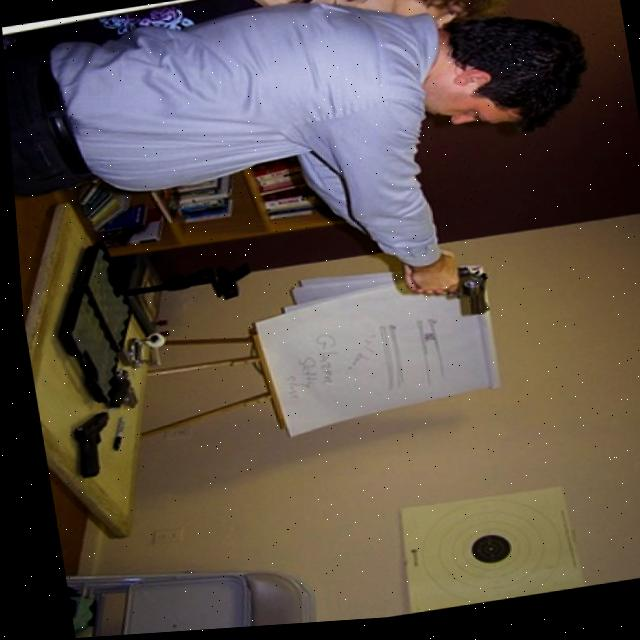knife: (98, 418, 127, 453)
pistol: (62, 414, 109, 483), (451, 270, 486, 323)
